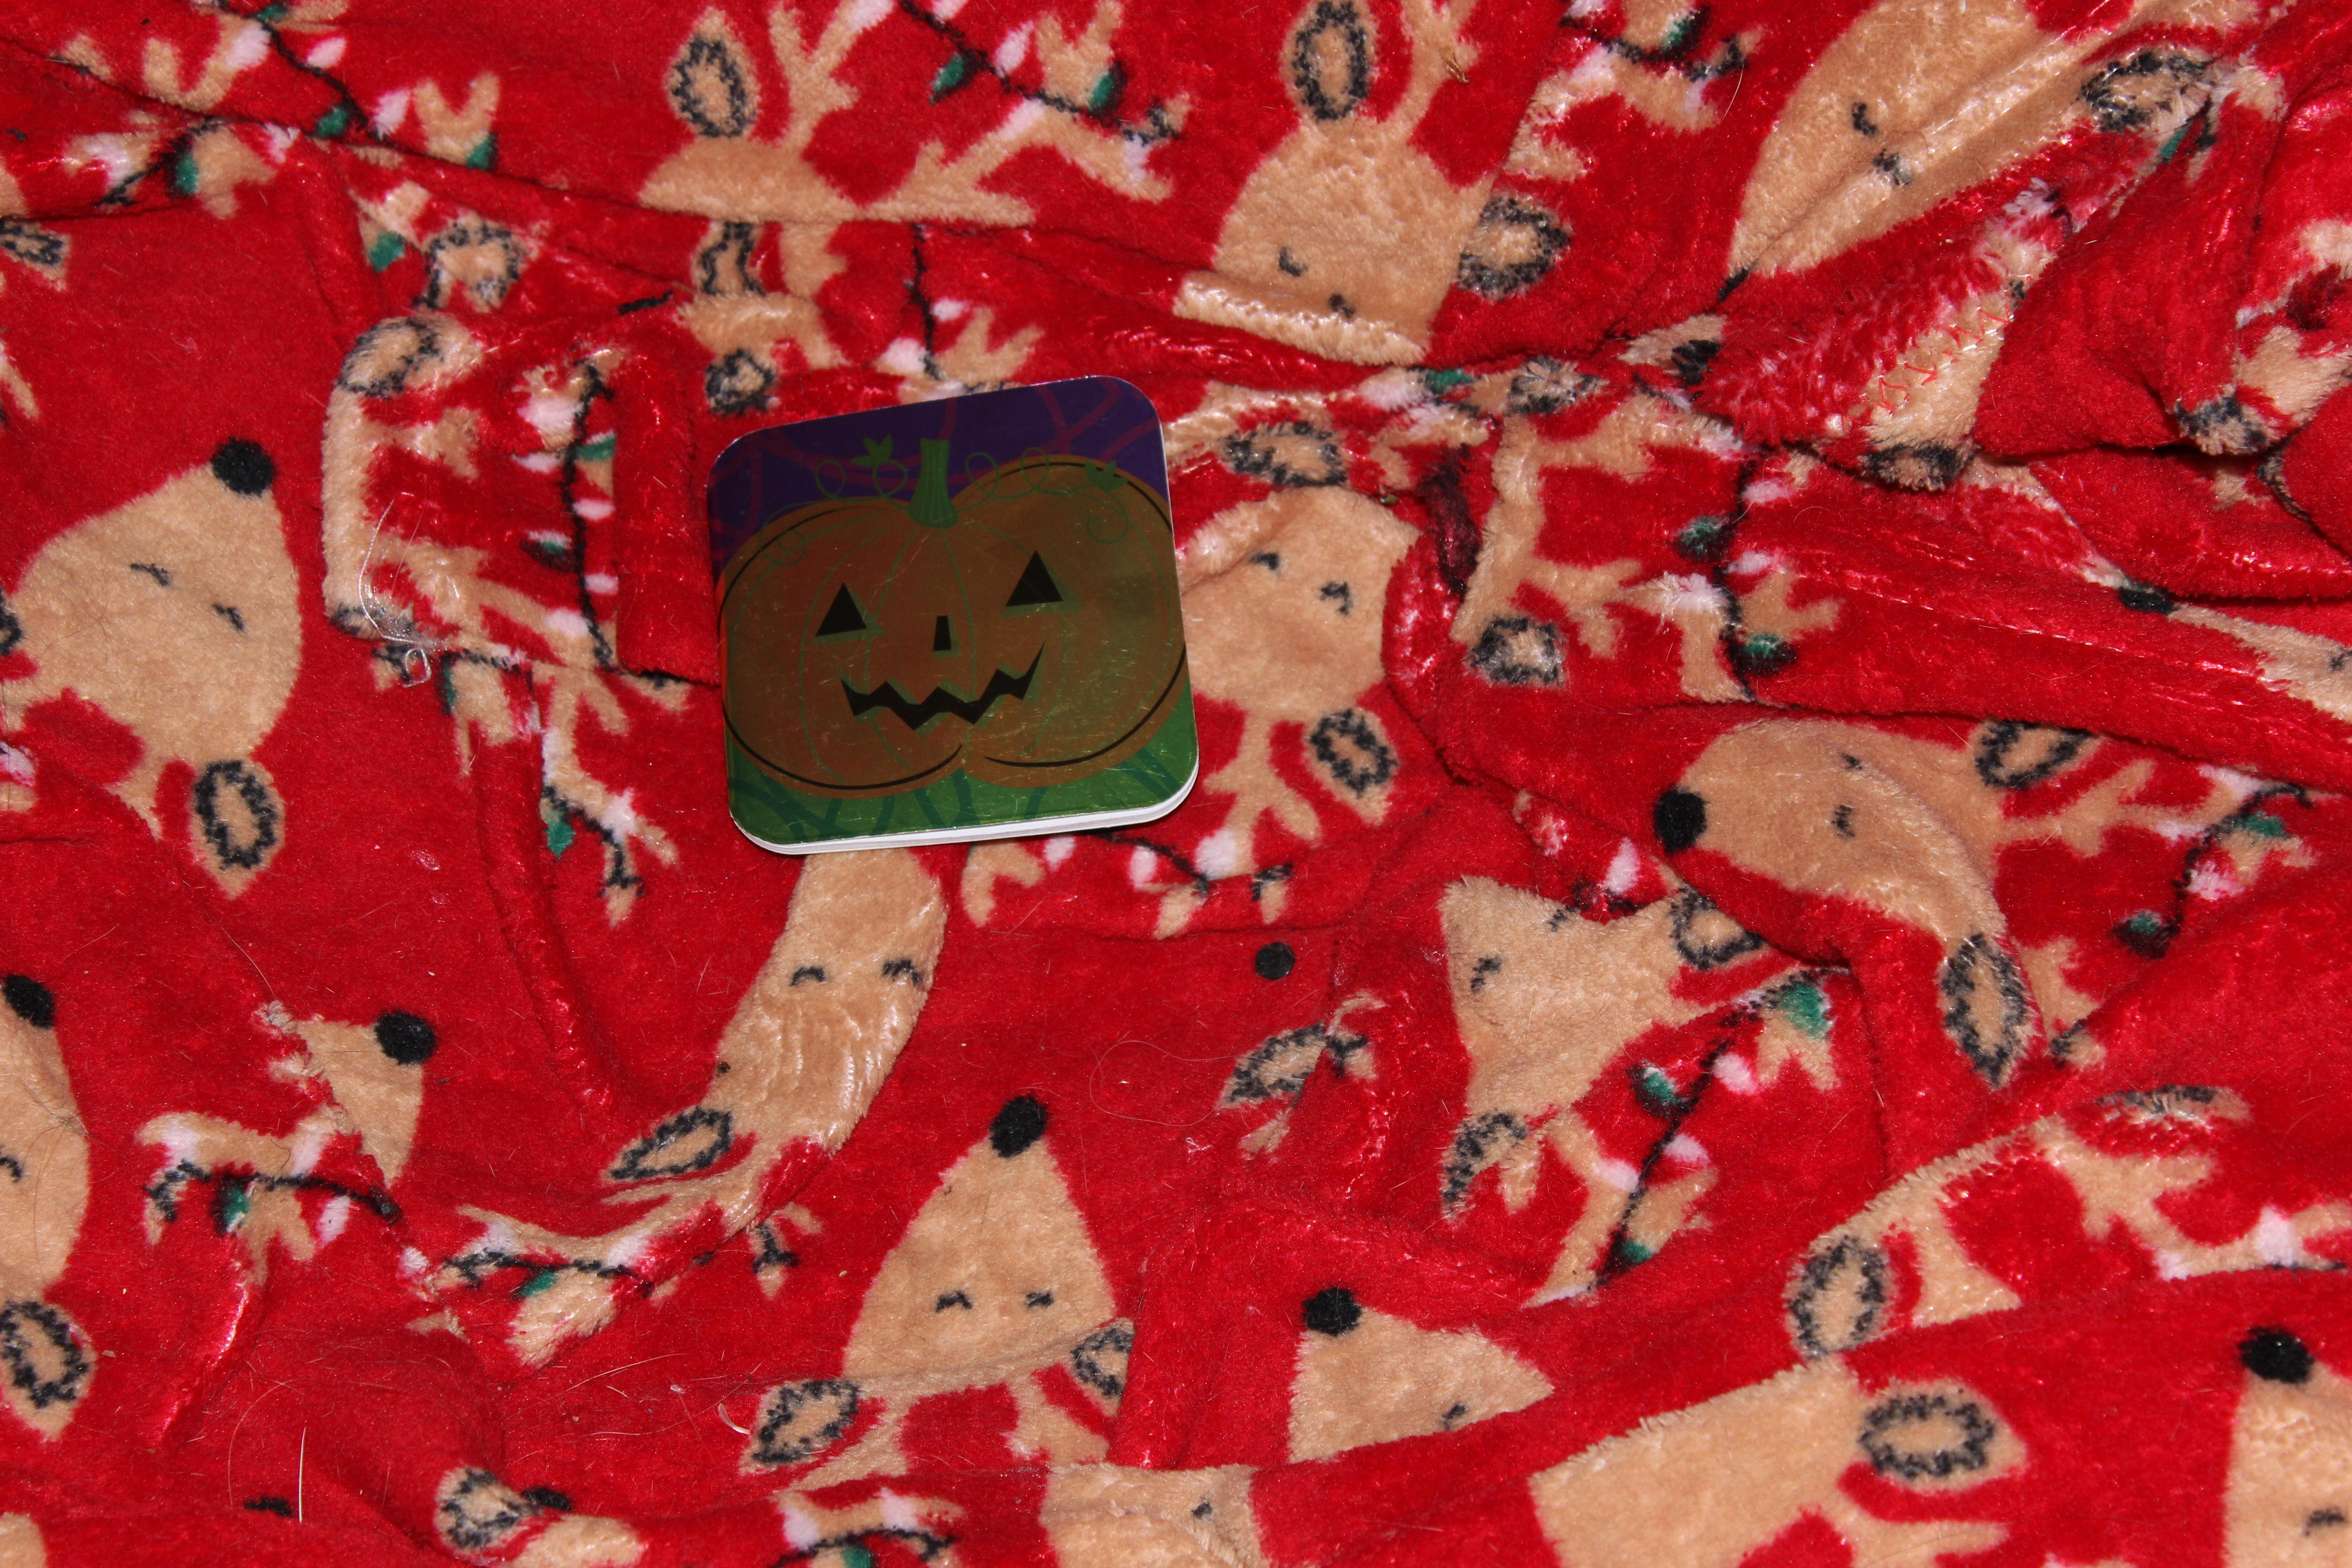pumpkinNotes: (675, 360, 1236, 880)
